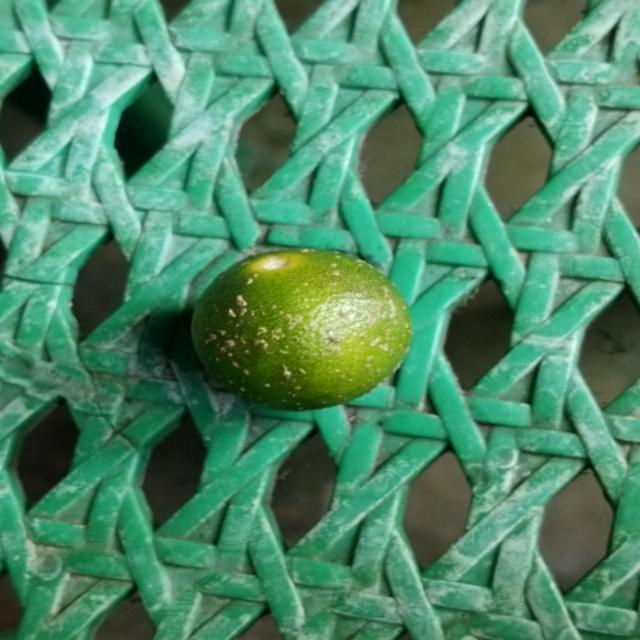scab: (186, 246, 416, 414)
